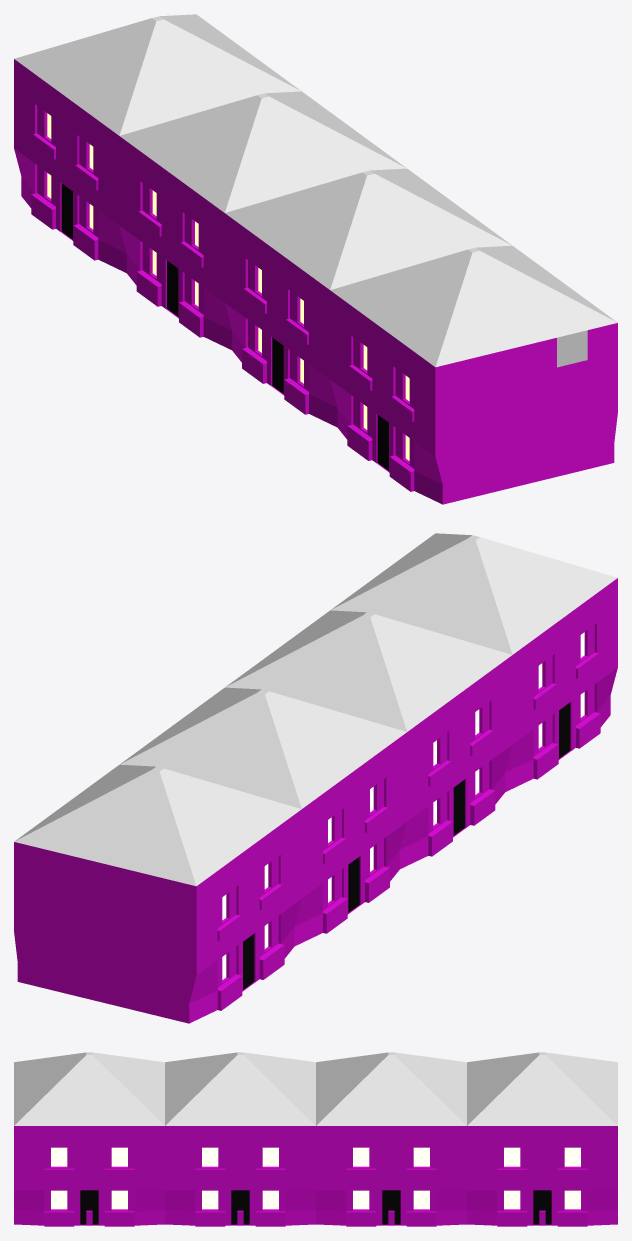
The model's file is two_storey_house_4(one less house).fbx.
3 views of the same model, one above another, from view 1: azimuth 30°, elevation 25°; view 2: azimuth 150°, elevation 25°; view 3: azimuth 270°, elevation 25° (orthographic). The views are drawn at different scales.
Visible parts, largest first — view 1: Cube; view 2: Cube; view 3: Cube.
Boxes of the visible parts, bbox=[...] form: Cube: bbox=[14, 14, 617, 504]; Cube: bbox=[14, 533, 617, 1023]; Cube: bbox=[14, 1052, 617, 1226].
Bounding box in the file's own units: 19.95 × 19.75 × 77.2.
